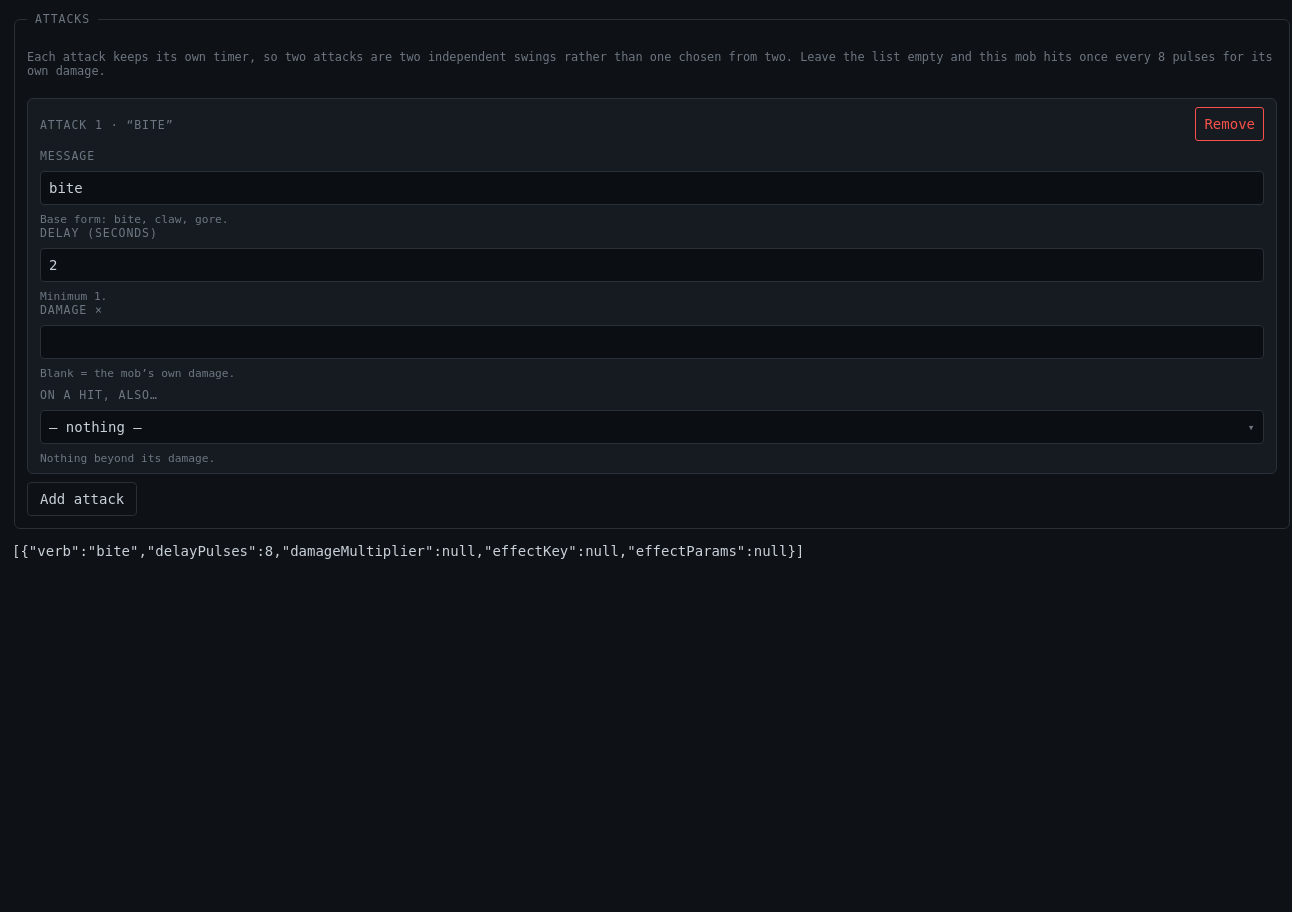
Test: AttackEditor › shows an effect’s parameters only once it has an effect
The width and height of the screenshot is (1292, 912).
Select "Wound over time" in the dropdown labelled "On a hit, also… ▾ Nothing beyond its damage." at [652, 427], box [40,410,1264,444]
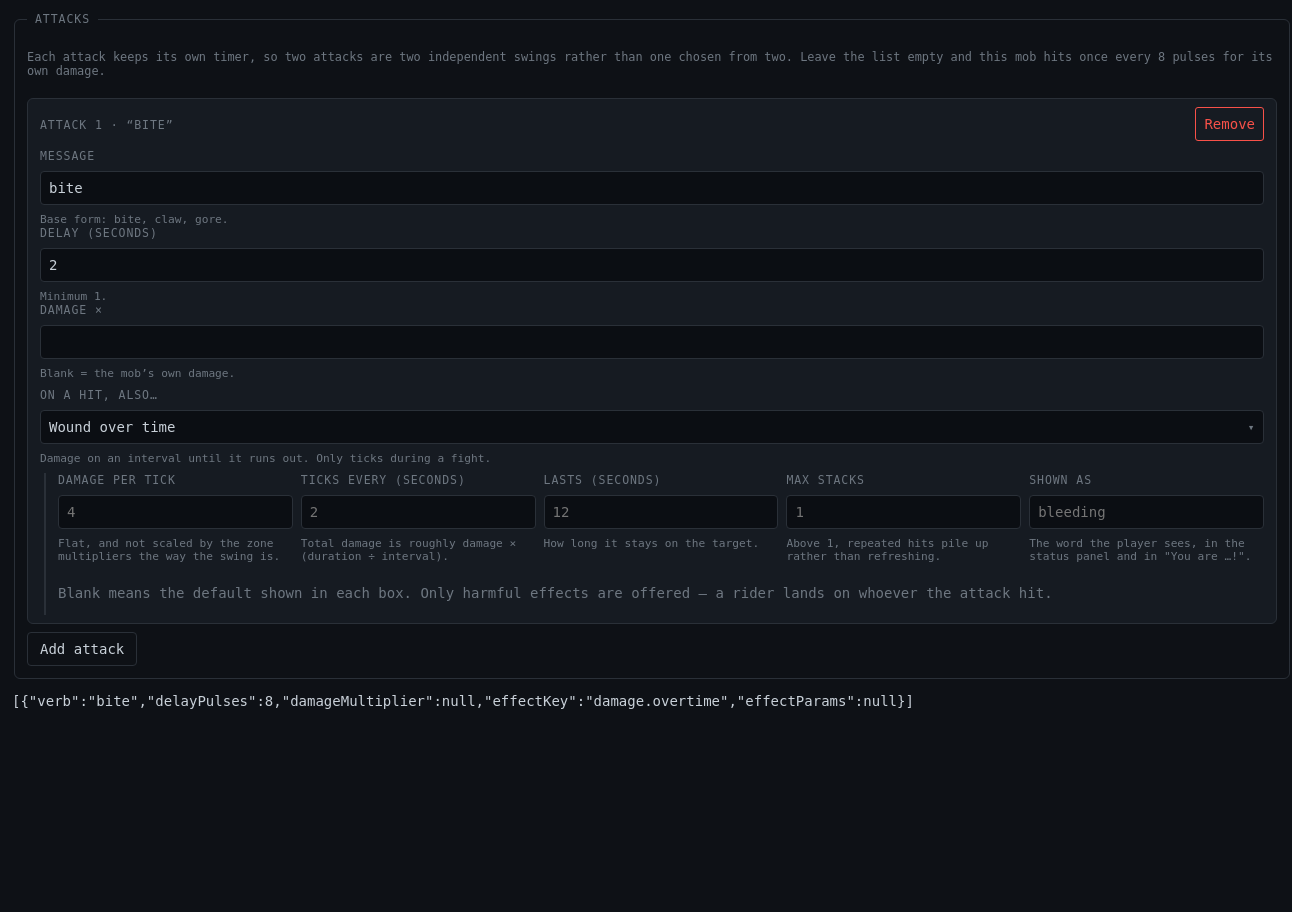
expect the element with class "attack-effect" is shown: met, box [44,473,1264,615]
expect the field labelled "Damage per tick" is shown: met, box [58,495,293,529]
